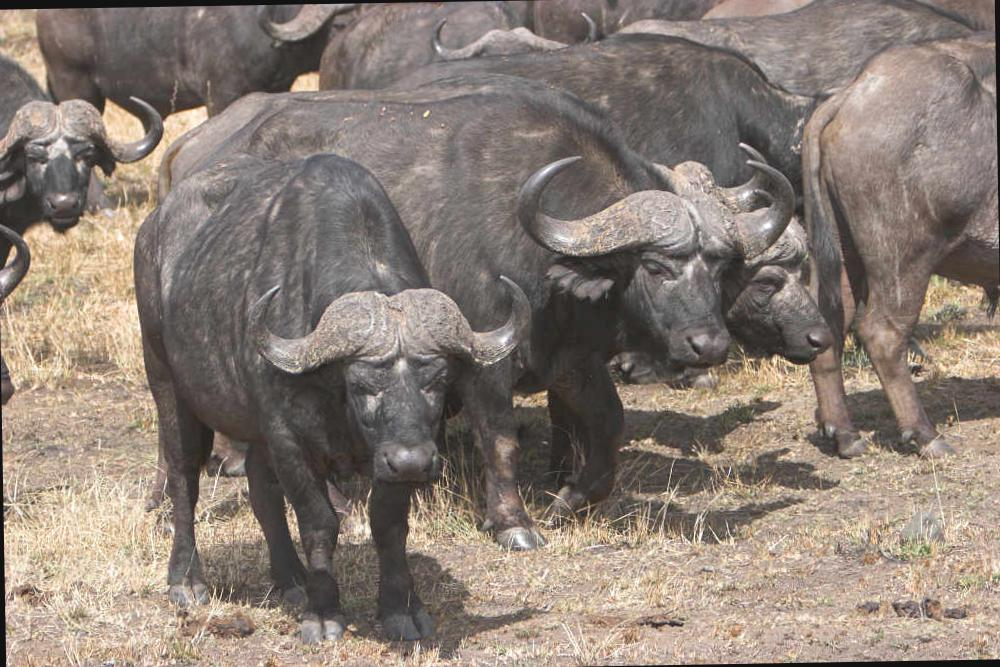Buffalo: (7, 17, 986, 667)
